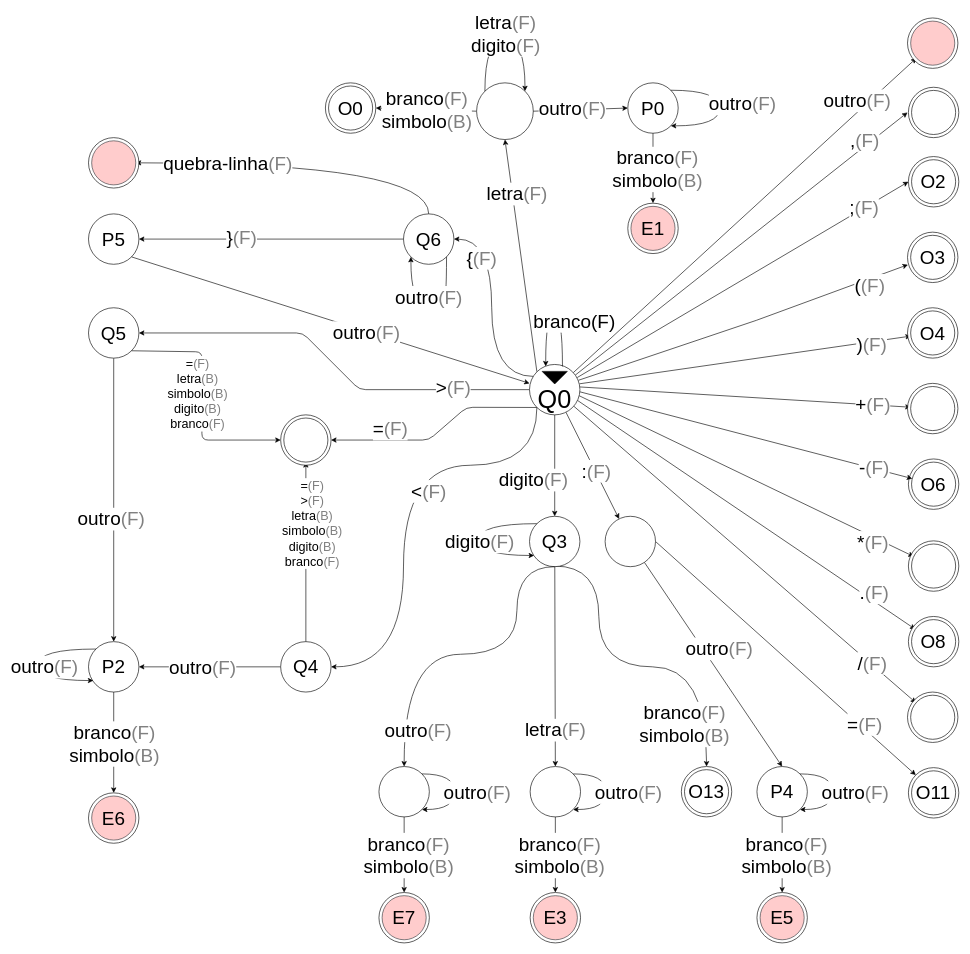
Image size: 970x954. Some labels were removed from this diagram. Each missing label, with the centre of its shape:
"E2" belongs at pixel 932 42.
"E4" belongs at pixel 113 162.
"O1" belongs at pixel 933 112.
"O10" belongs at pixel 305 439.
"O5" belongs at pixel 932 408.
"O7" belongs at pixel 933 565.
"O9" belongs at pixel 932 717.
"P1" belongs at pixel 555 791.
"P3" belongs at pixel 403 791.
"Q1" belongs at pixel 504 111.
"Q2" belongs at pixel 630 541.
